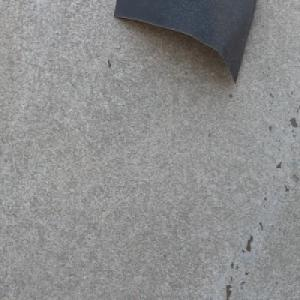PaintChip: (113, 0, 258, 84)
